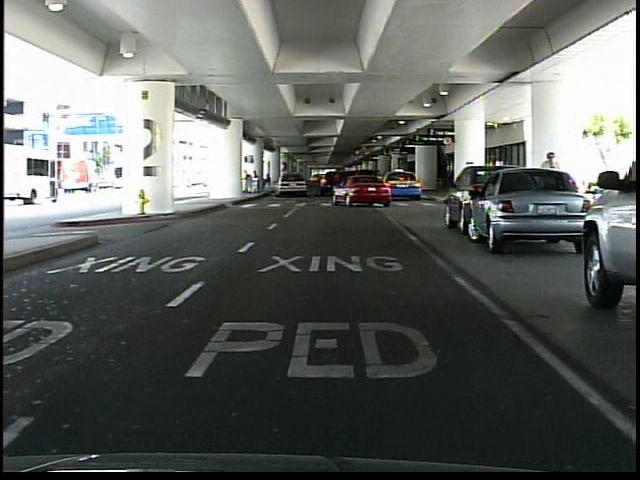person: (539, 149, 566, 234)
